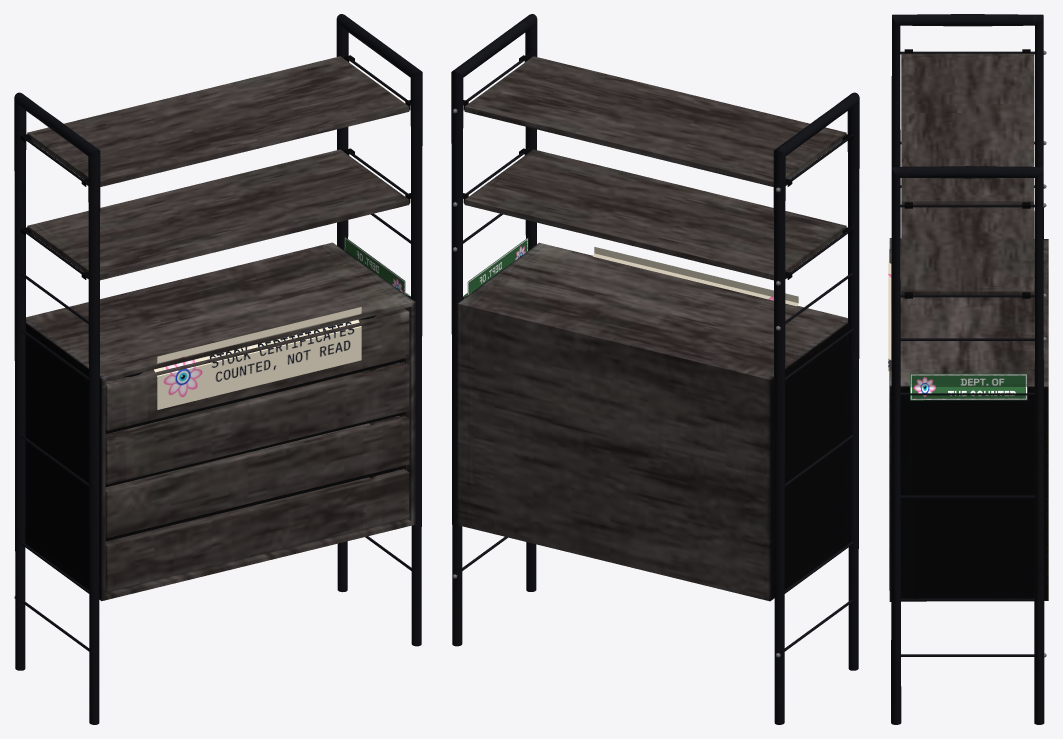
File: nyb_wolf_cabinet.glb
3 views of the same model, side by side, from view 1: azimuth 30°, elevation 25°; view 2: azimuth 150°, elevation 25°; view 3: azimuth 270°, elevation 25° (orthographic). The views are drawn at different scales.
Parts seen in each view (by area): view 1: drawer_cabinet, stk_lbl_16af9d0068.png, stk_label_counted_dept.png; view 2: drawer_cabinet, stk_lbl_16af9d0068.png, stk_label_counted_dept.png; view 3: drawer_cabinet, stk_label_counted_dept.png, stk_lbl_16af9d0068.png.
Boxes of the visible parts, box(x1,y1,x2,y2) form: drawer_cabinet: box(14, 14, 422, 724); stk_lbl_16af9d0068.png: box(154, 307, 361, 409); stk_label_counted_dept.png: box(344, 236, 410, 296); drawer_cabinet: box(451, 14, 859, 724); stk_lbl_16af9d0068.png: box(593, 247, 798, 306); stk_label_counted_dept.png: box(463, 237, 528, 298); drawer_cabinet: box(889, 14, 1048, 724); stk_label_counted_dept.png: box(910, 373, 1027, 400); stk_lbl_16af9d0068.png: box(888, 262, 891, 371).
Bounding box in the file's own units: 1.14 × 1.88 × 0.4906.
Materials: 3 (3 with a texture image).
